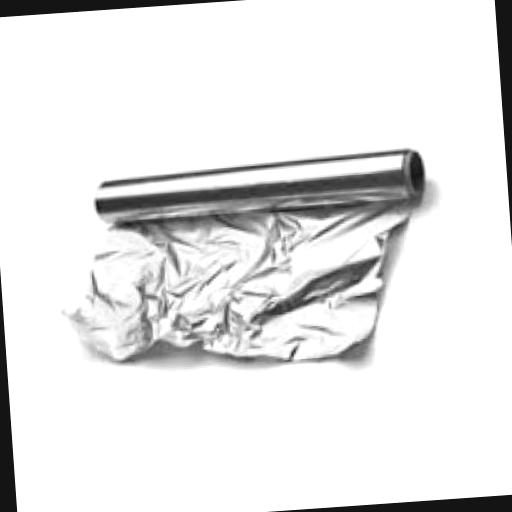metal: (48, 145, 435, 380)
